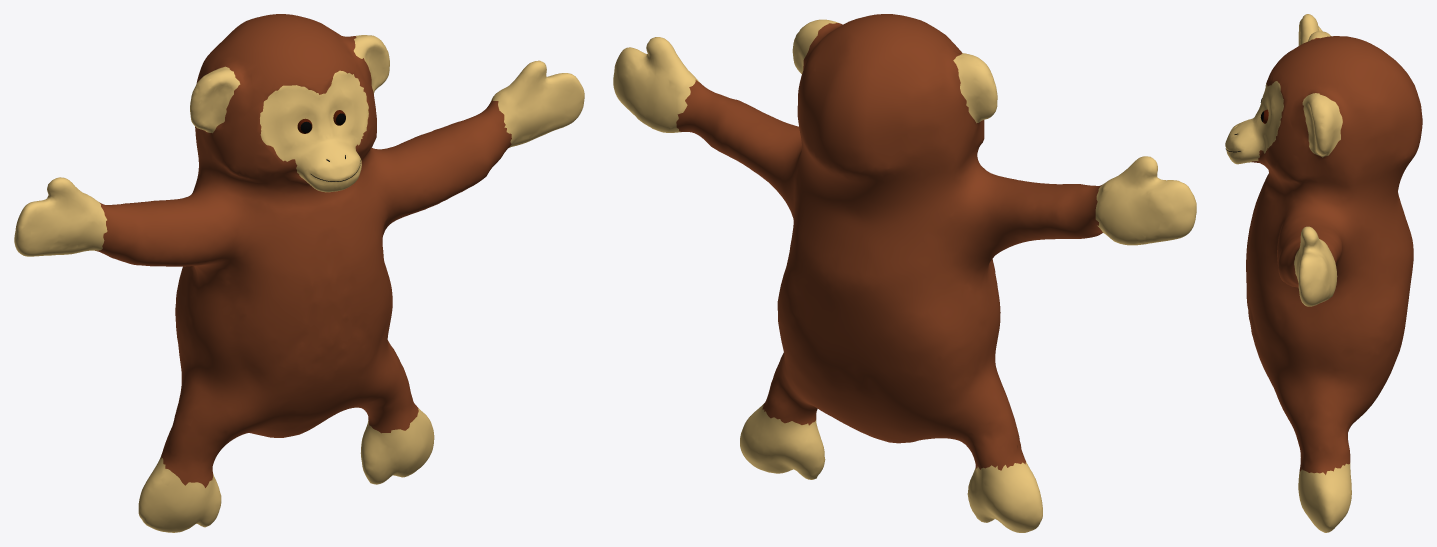
The model's file is monkey.glb.
3 renders of one model, left to right at view 1: azimuth 30°, elevation 25°; view 2: azimuth 150°, elevation 25°; view 3: azimuth 270°, elevation 25°, orthographic. The views are drawn at different scales.
Parts seen in each view (by area): view 1: monkey.001; view 2: monkey.001; view 3: monkey.001.
Part boxes in pixels (x1,y1,x2,y2): monkey.001: (14,14,584,532); monkey.001: (613,14,1196,532); monkey.001: (1225,14,1422,532).
Bounding box in the file's own units: 5.07 × 4.06 × 1.67.
